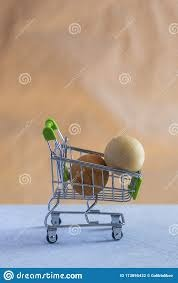with_basket: (42, 117, 144, 247)
